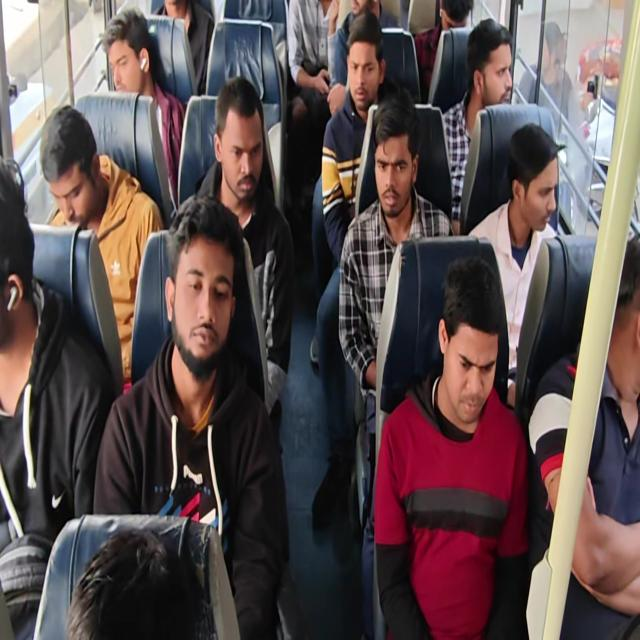person: (1, 1, 638, 638), (92, 192, 290, 638), (337, 88, 454, 637), (373, 254, 530, 638), (0, 154, 112, 638), (528, 234, 639, 638), (310, 11, 392, 525), (190, 75, 294, 445), (39, 104, 164, 393), (467, 122, 563, 406), (101, 7, 186, 209), (321, 12, 388, 265), (66, 526, 212, 639), (518, 20, 594, 232), (441, 18, 514, 235), (518, 20, 586, 136), (286, 0, 338, 125), (326, 0, 382, 116), (412, 0, 473, 102), (151, 0, 214, 95)
